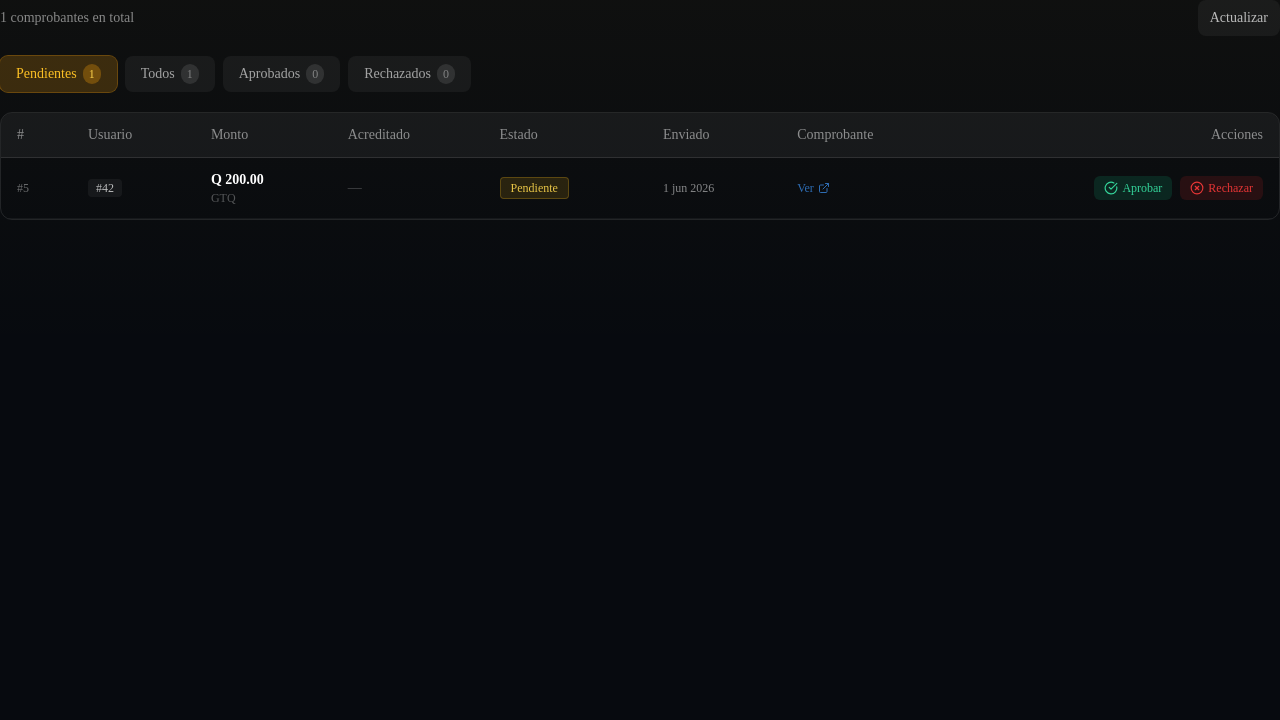
Test case: BankTransfersTab – approve modal › closes approve modal on Cancelar
Click the button "Aprobar" at (1133, 188), box [1094,176,1172,200]
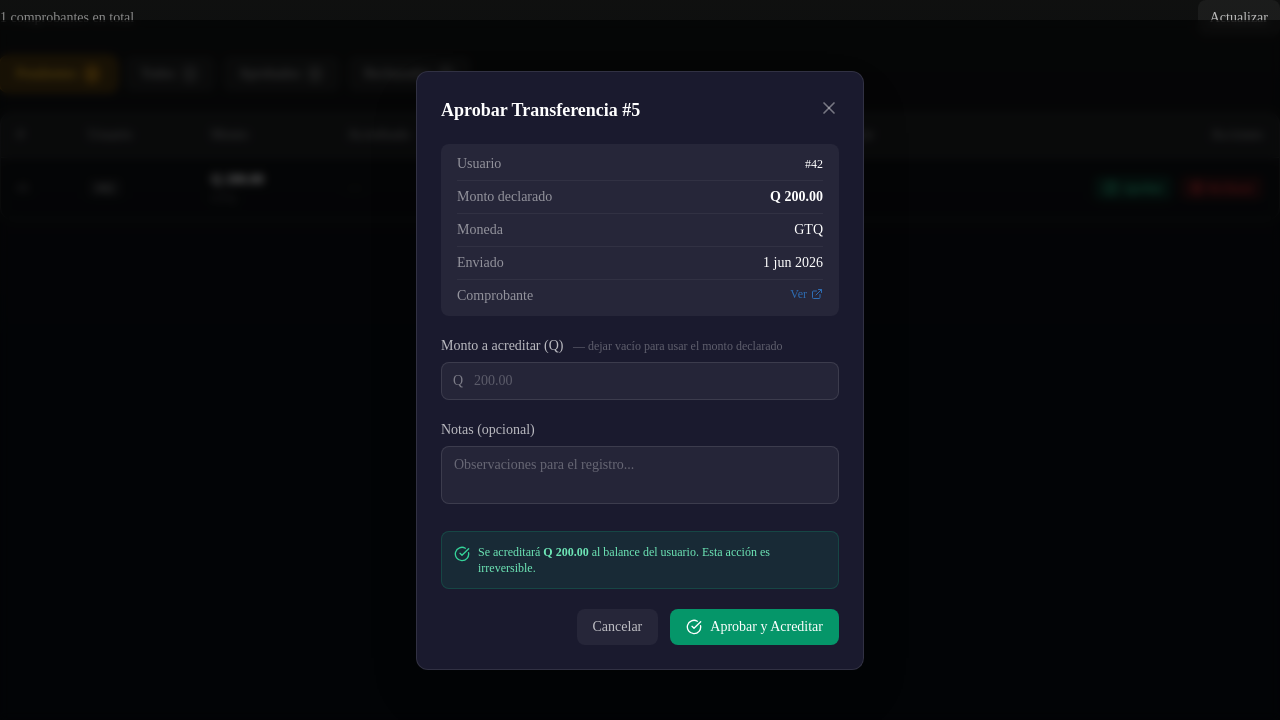
Expected: the heading "Aprobar Transferencia #5" is shown, [441,96,640,124]
Click the button "Cancelar" at (617, 626), box [576,608,658,644]
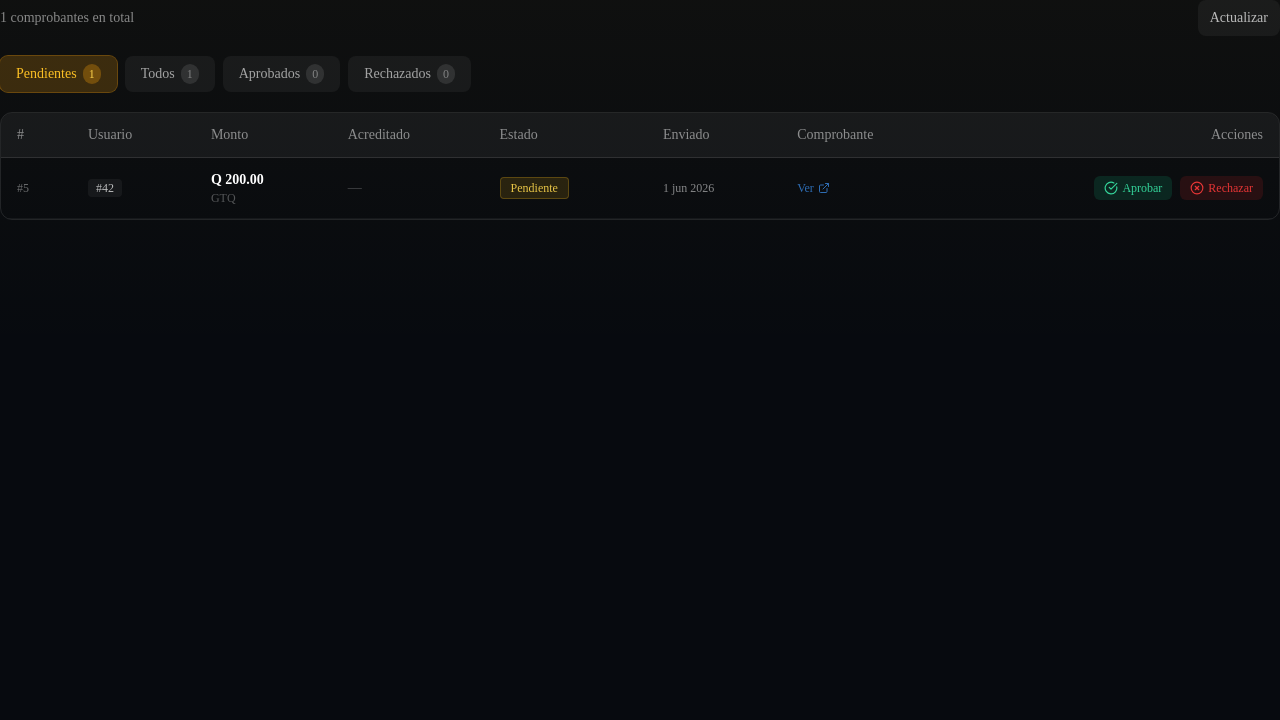
Expected: the heading "Aprobar Transferencia #5" is gone
